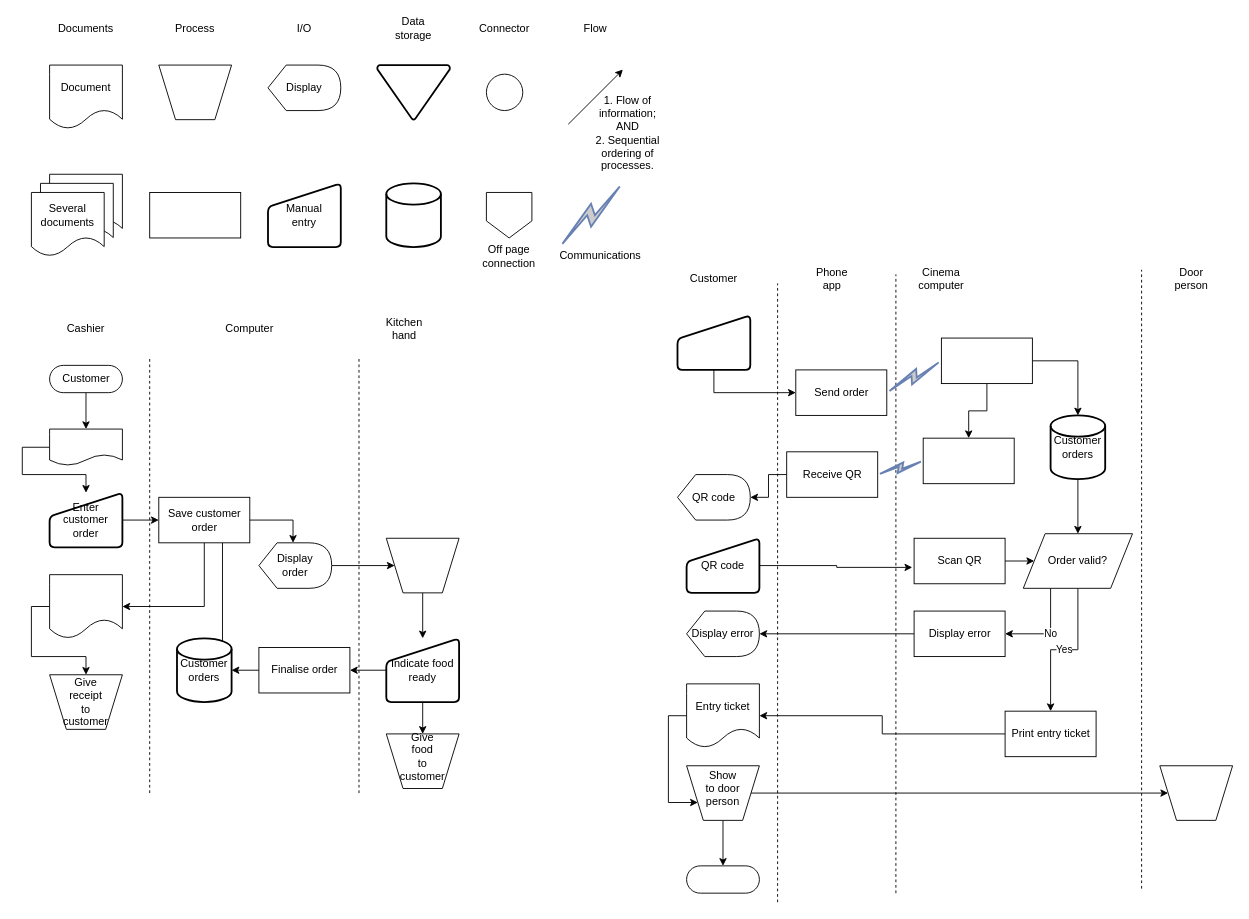
The diagram is 1249 pixels wide and 919 high, and some of its shapes have lost their labels. Here are the shapes that lost their labels. From the top down, the centre of each, then its label:
the point at 195,92: Manual process
the point at 413,92: Paper file
the point at 504,92: On page connection
the point at 195,215: Computer process
the point at 413,215: Disk or database
the point at 713,342: Order movie ticket
the point at 986,360: Process customer order
the point at 85,446: Order & payment
the point at 968,460: Send QR
the point at 422,565: Prepare food
the point at 85,606: Receipt
the point at 1196,792: Check entry ticket
the point at 722,879: Enjoy movie
